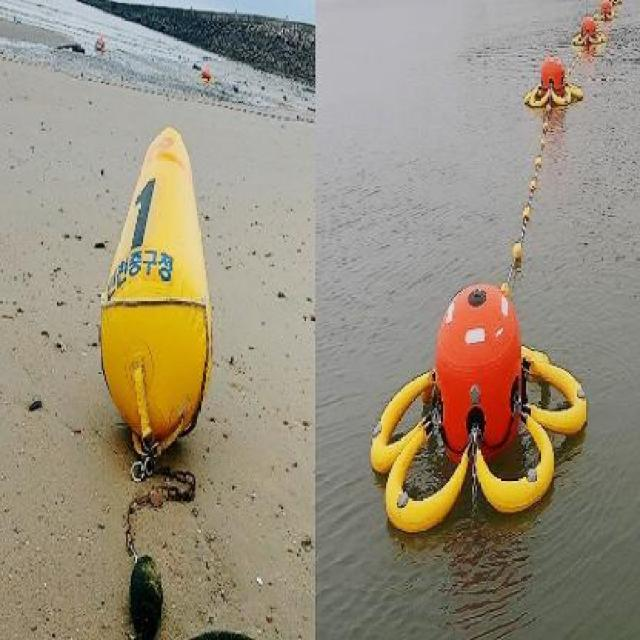a: (359, 267, 596, 540), (92, 115, 223, 470), (502, 91, 555, 302), (517, 48, 591, 122), (570, 13, 610, 59)
